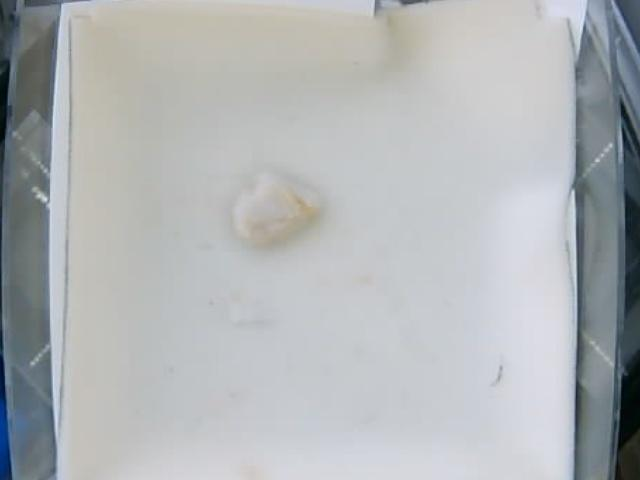Pebble: (230, 171, 320, 245)
